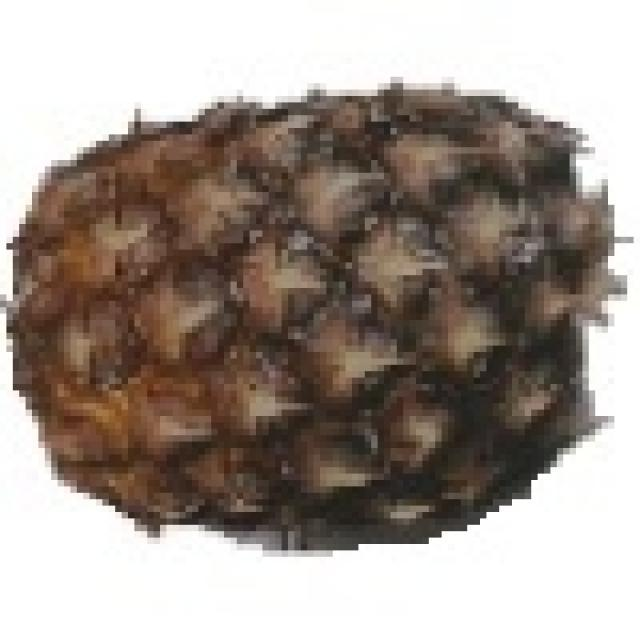pineapple: (6, 77, 602, 531)
